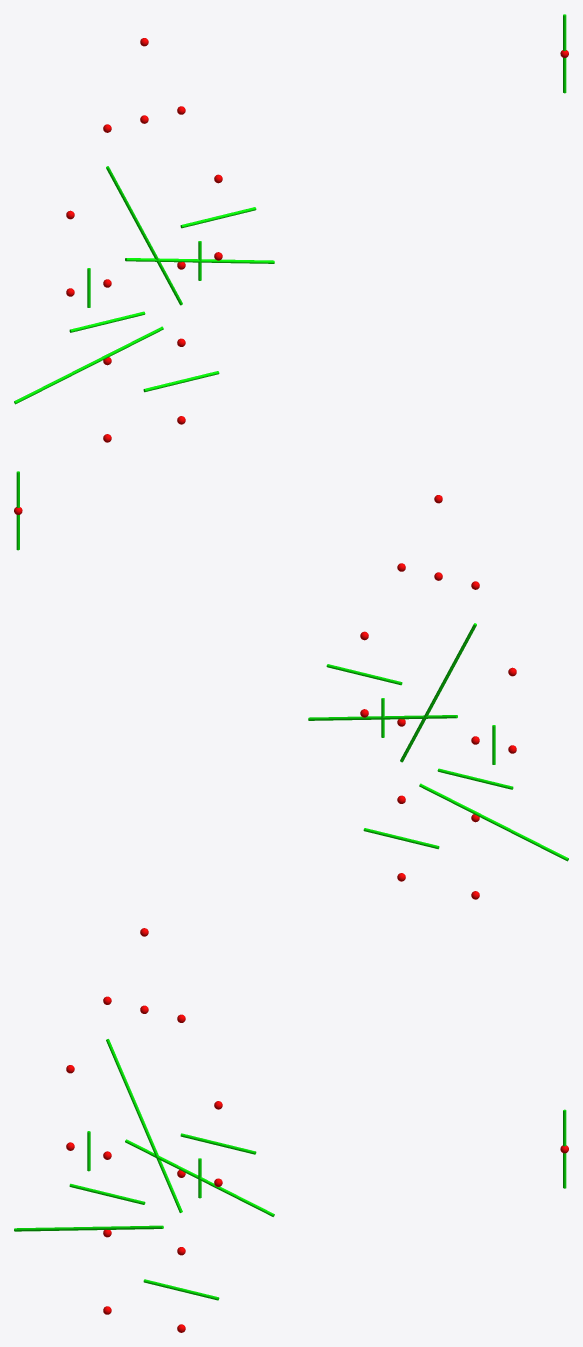
The model's file is pose_structure.gltf.
3 views of the same model, one above another, from view 1: azimuth 30°, elevation 25°; view 2: azimuth 150°, elevation 25°; view 3: azimuth 330°, elevation 25° (orthographic).
Size of the model in its own units: 748 by 510 by 10.
